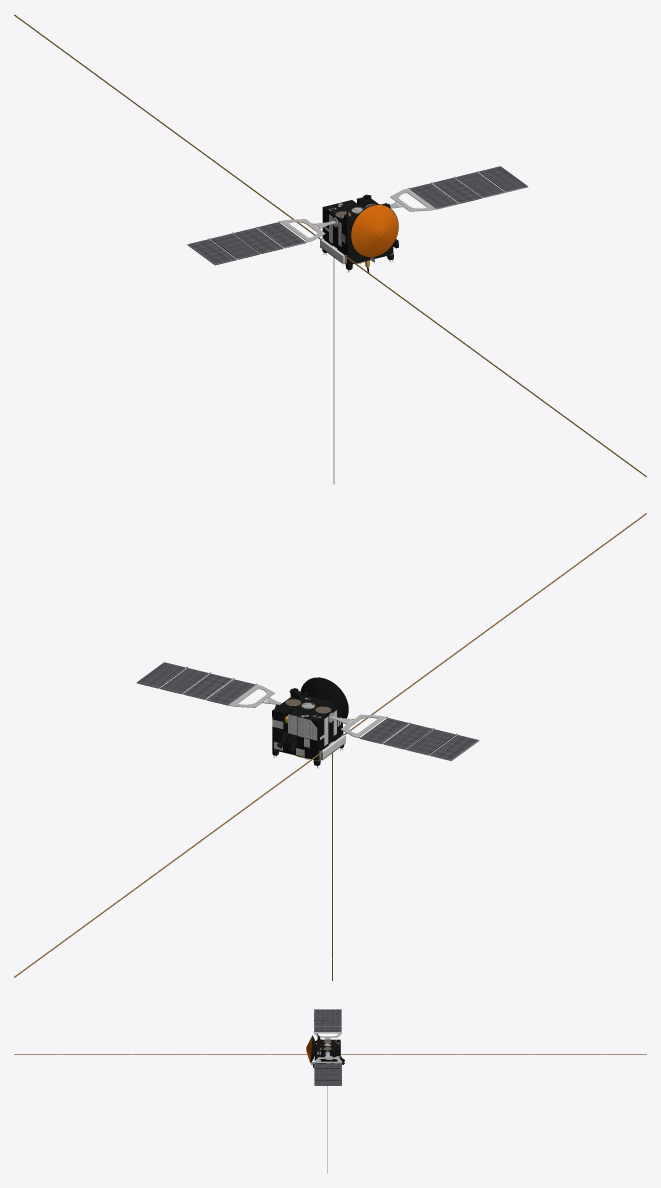
Rendered from mars-express.glb.
3 views of the same model, one above another, from view 1: azimuth 30°, elevation 25°; view 2: azimuth 150°, elevation 25°; view 3: azimuth 270°, elevation 25° (orthographic). The views are drawn at different scales.
Visible parts, largest first — view 1: MarsExpress_low; view 2: MarsExpress_low; view 3: MarsExpress_low.
Part boxes in pixels (x1,y1,x2,y2): MarsExpress_low: (14, 14, 646, 484); MarsExpress_low: (14, 513, 646, 980); MarsExpress_low: (14, 1009, 646, 1173).
Bounding box in the file's own units: 1226 × 1063 × 4273.
Materials: 1 (1 with a texture image).
